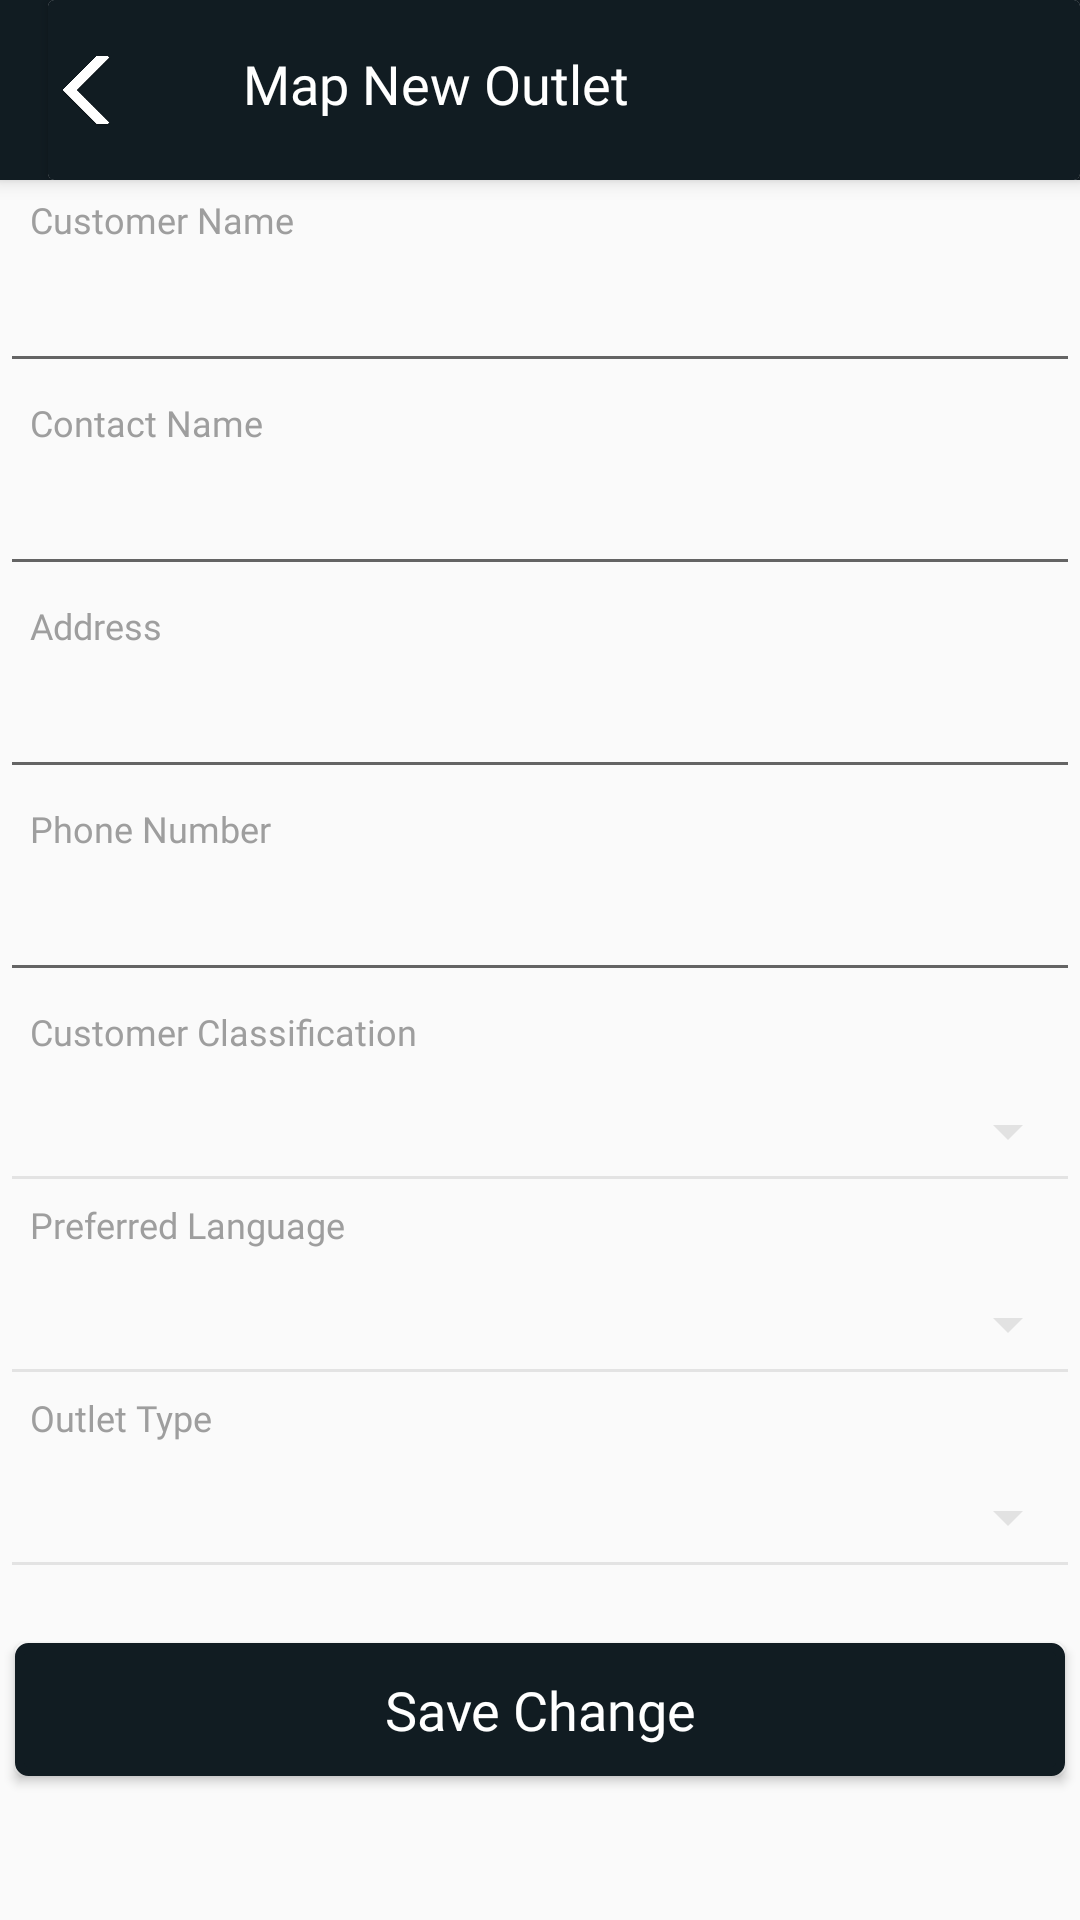

Where icons sit on this 1080x1920 app screen, as [left=x1, top=y1, right=x2, bottom=y2]:
arrow: [left=63, top=56, right=109, bottom=124]
